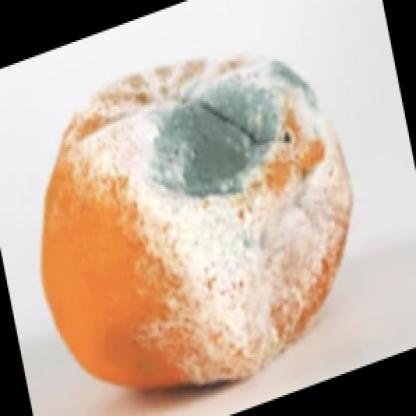rotten: (44, 55, 349, 386)
